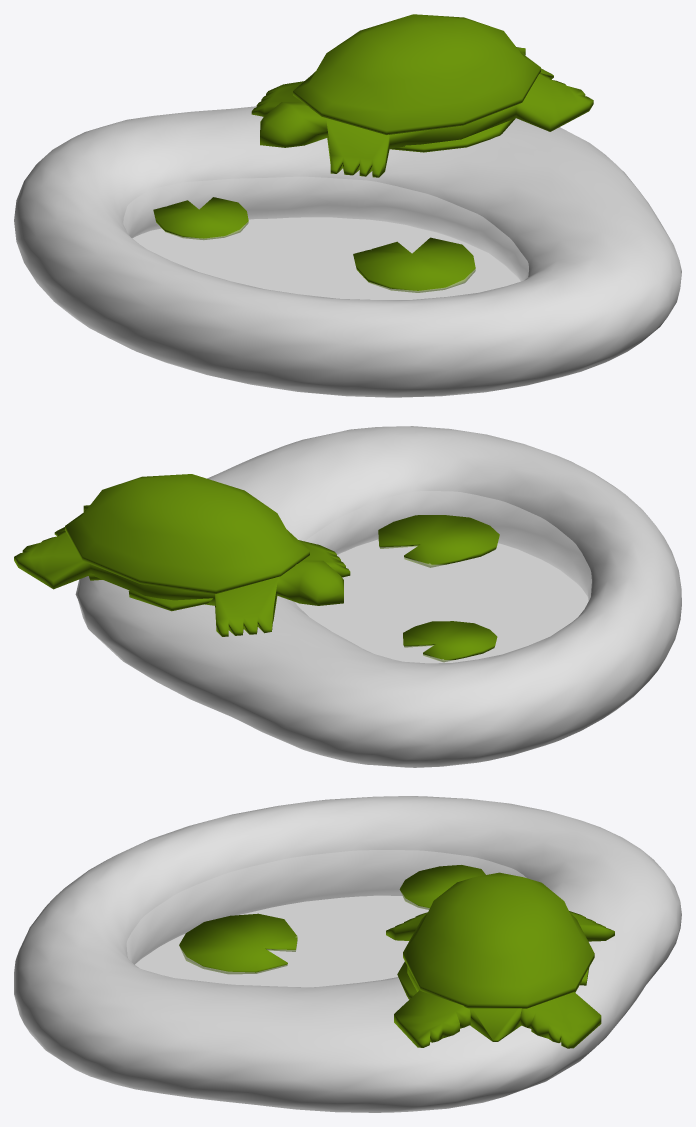
File: turtlePond.glb
3 renders of one model, top to bottom at view 1: azimuth 30°, elevation 25°; view 2: azimuth 150°, elevation 25°; view 3: azimuth 270°, elevation 25°, orthographic. The views are drawn at different scales.
Visible parts, largest first — view 1: Circle.001, Tortue, nenufar.002, nenufar.001, nenufar; view 2: Circle.001, Tortue, nenufar.002, nenufar.001, nenufar; view 3: Circle.001, Tortue, nenufar.002, nenufar.001.
Boxes of the visible parts, left/top/right/bottom form: Circle.001: left=14, top=106, right=681, bottom=397; Tortue: left=251, top=14, right=593, bottom=177; nenufar.002: left=353, top=237, right=475, bottom=292; nenufar.001: left=153, top=197, right=248, bottom=239; nenufar: left=389, top=118, right=515, bottom=152; Circle.001: left=75, top=426, right=681, bottom=767; Tortue: left=14, top=474, right=350, bottom=636; nenufar.002: left=378, top=515, right=499, bottom=567; nenufar.001: left=403, top=621, right=497, bottom=662; nenufar: left=88, top=573, right=212, bottom=611; Circle.001: left=14, top=796, right=681, bottom=1112; Tortue: left=386, top=872, right=614, bottom=1048; nenufar.002: left=179, top=913, right=297, bottom=974; nenufar.001: left=399, top=865, right=485, bottom=909.
Size of the model in its own units: 3.77 by 1.17 by 3.93.
